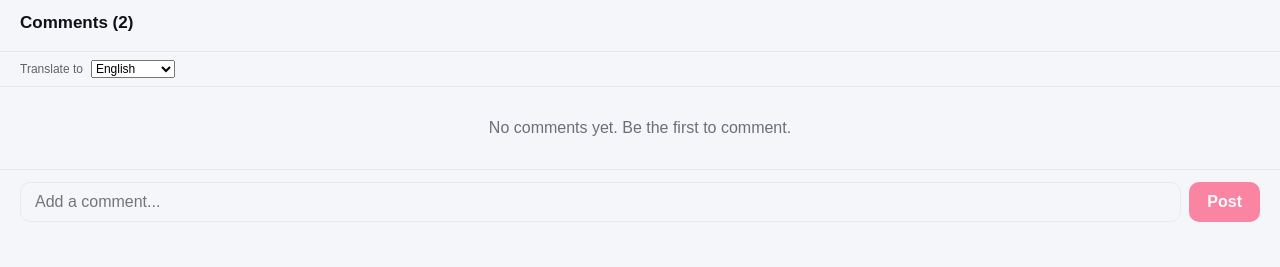
Test: CommentsPanel › shows the moderation message when a comment is blocked
The image size is (1280, 267).
Expected: the list item "No comments yet. Be the first to comment." is shown, [489,119,791,136]
Type "something awful" into the field with placeholder "Add a comment...".
click(601, 202); type("something awful")  # box [20,182,1181,222]
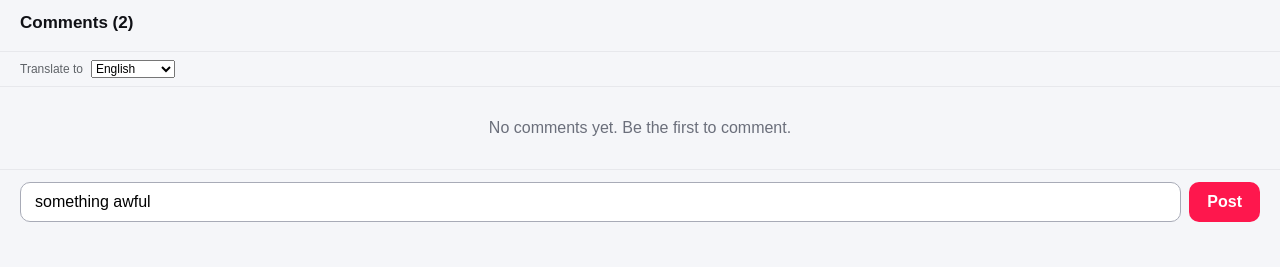
Click the button "Post".
click(1225, 202)  # box [1189,182,1260,222]
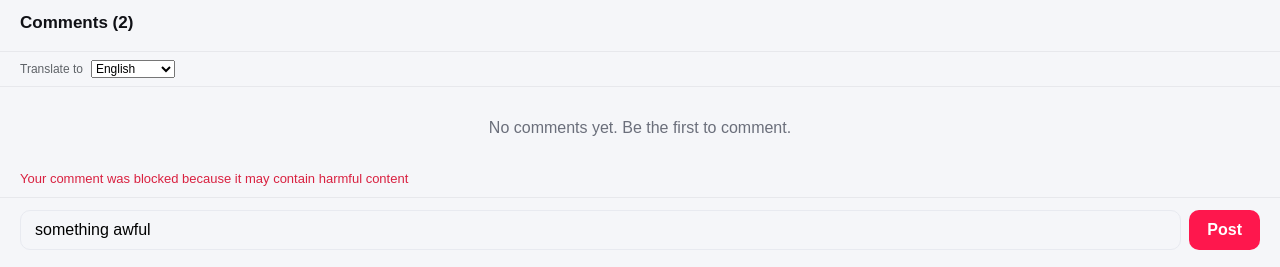
Expected: the text "Your comment was blocked because it may contain harmful content" is shown, [20,171,408,186]
